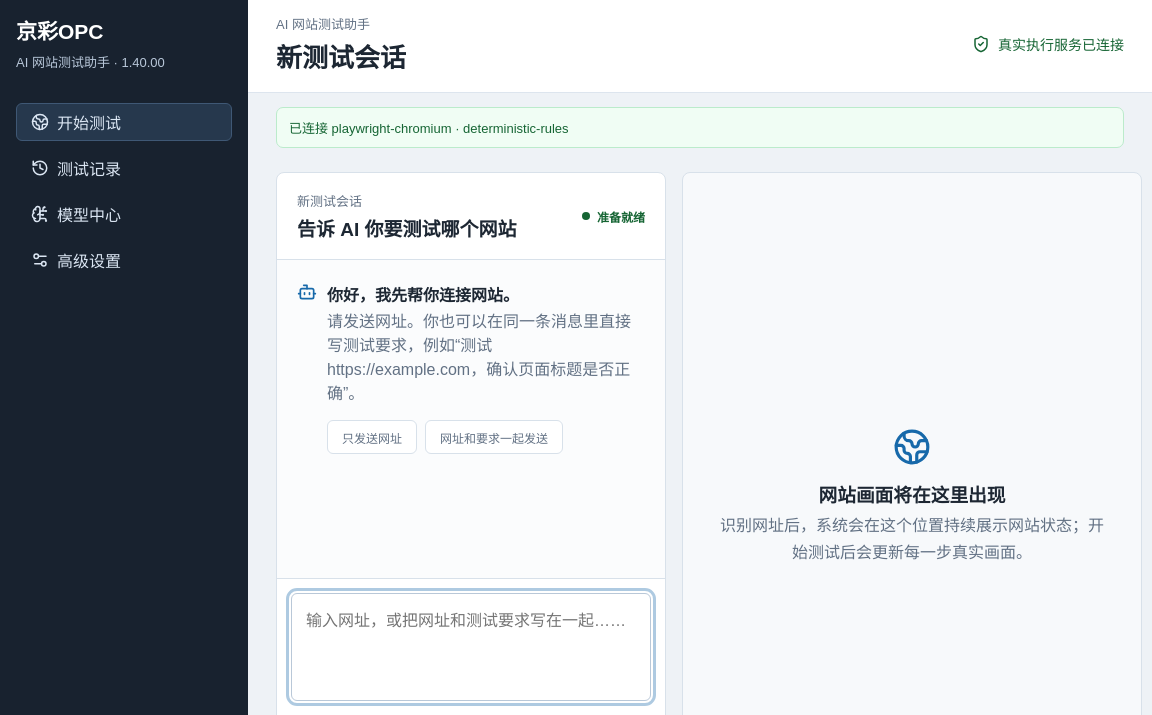
App › shows the Cesium-specific baseline only inside advanced settings with plain-language status
Expected: the text "真实执行服务已连接" is shown, [998,34,1124,54]
Expected: the text "三维与复杂网站完整验收" is not shown
Click the button "高级设置". click: (124, 260)
box: [16,241,232,279]
(page scrolled)
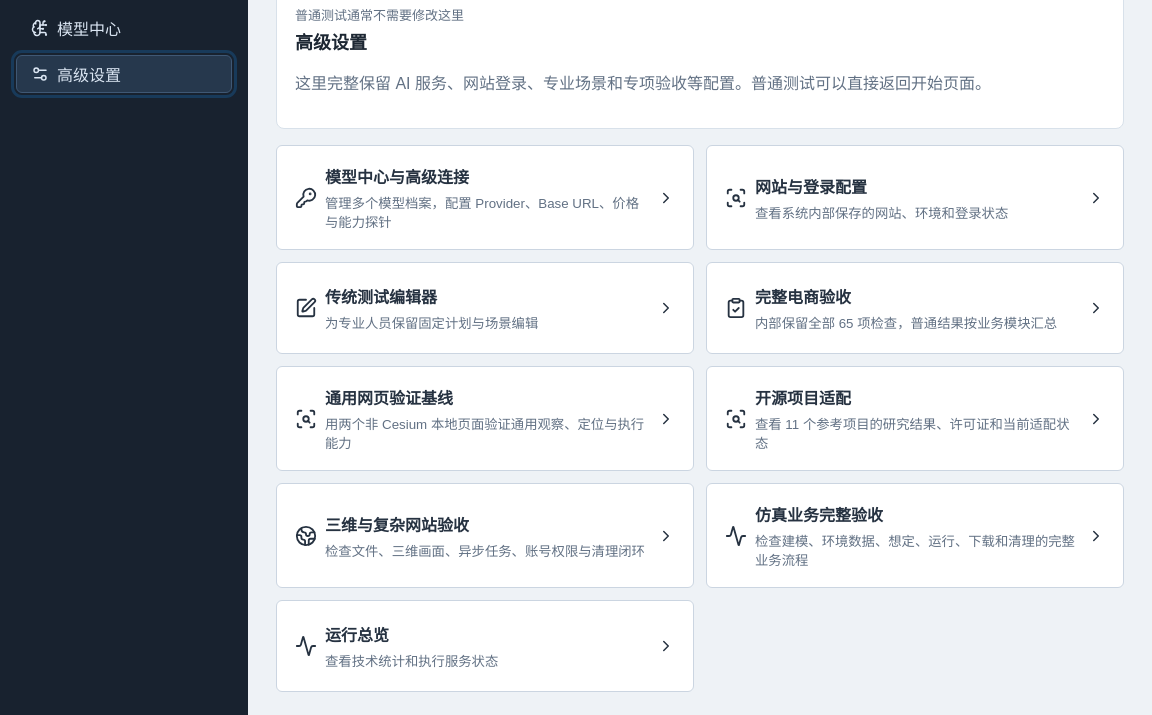
Click the button "三维与复杂网站验收 检查文件、三维画面、异步任务、账号权限与清理闭环". click: (397, 525)
box: [276,483,694,588]
(page scrolled)
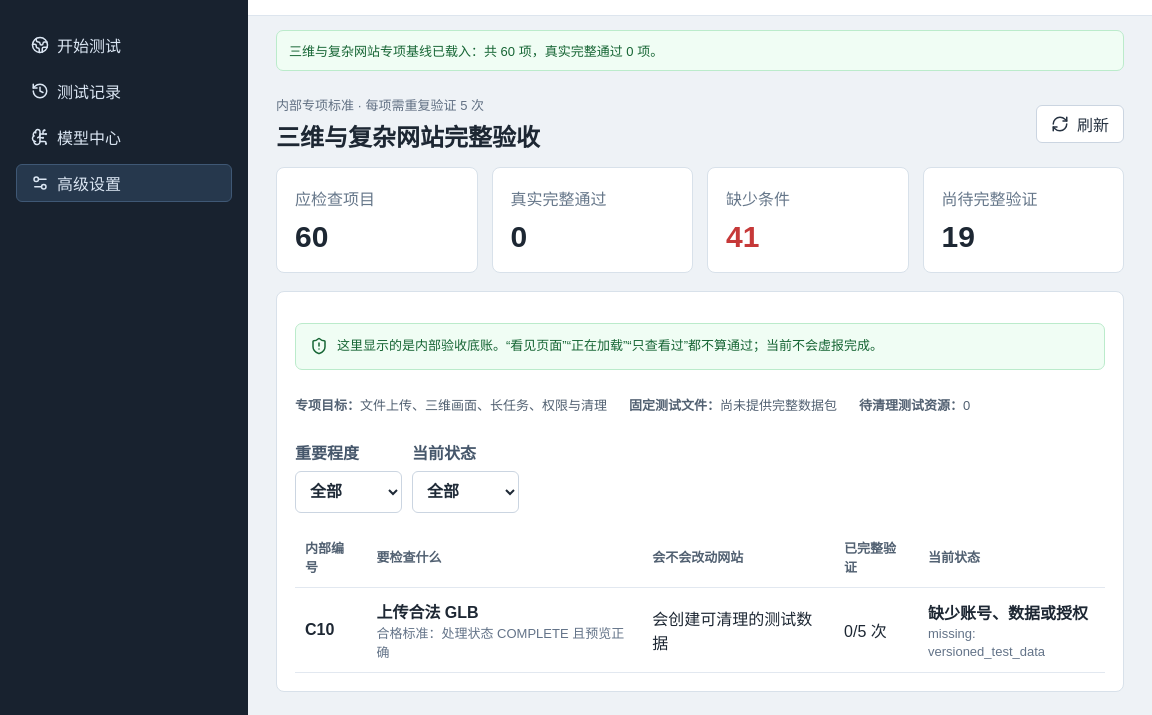
Result: the heading "三维与复杂网站完整验收" is shown at [276,118,540,153]
Result: the text "缺少账号、数据或授权" is shown at [928,605,1088,622]
Result: the text "会创建可清理的测试数据" is shown at [642,587,834,672]
